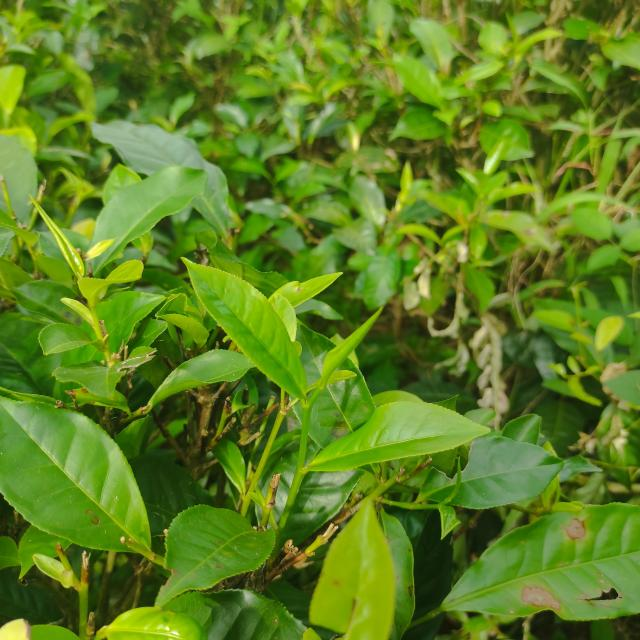unopened_leaf: (311, 295, 393, 394), (27, 188, 87, 285)
